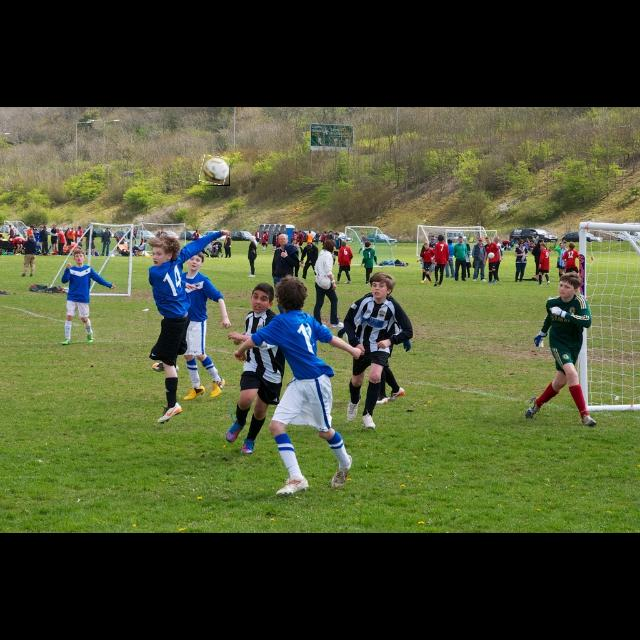Football: (200, 156, 230, 186)
